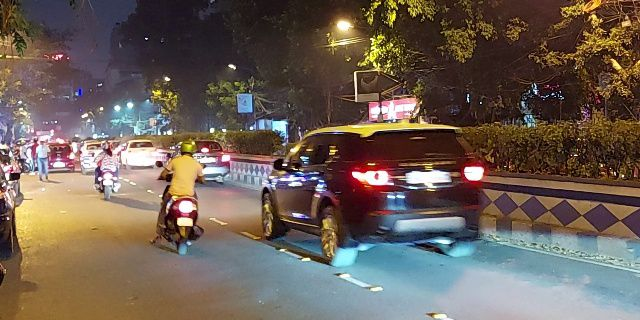Car: (290, 123, 493, 267)
Motorbike: (159, 139, 204, 259), (89, 133, 121, 203)
